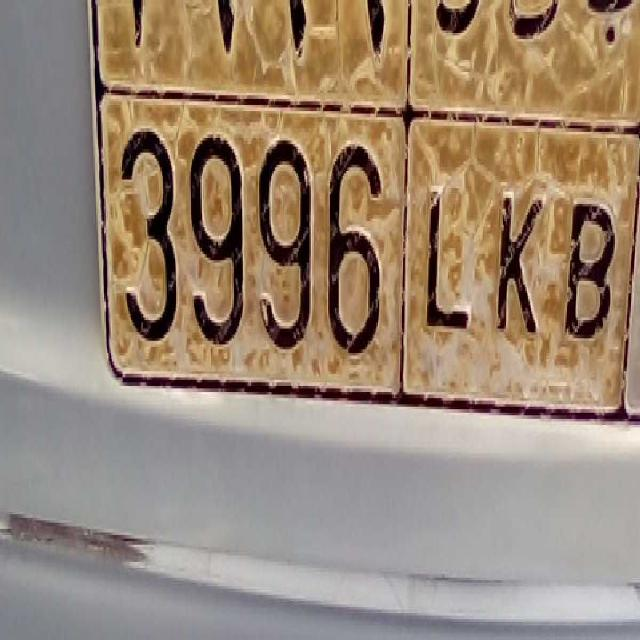license_plate: (97, 86, 630, 420)
